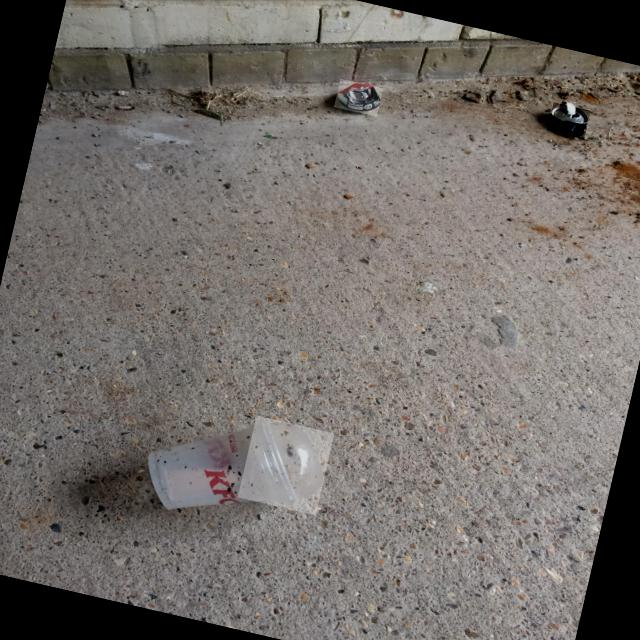Cup: (148, 419, 300, 510)
Drink can: (336, 83, 380, 112), (551, 106, 588, 137)
Lid: (255, 420, 324, 509)
